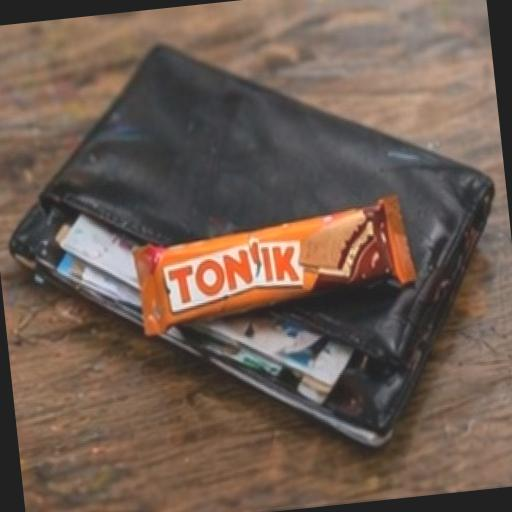tonik: (48, 94, 495, 512)
